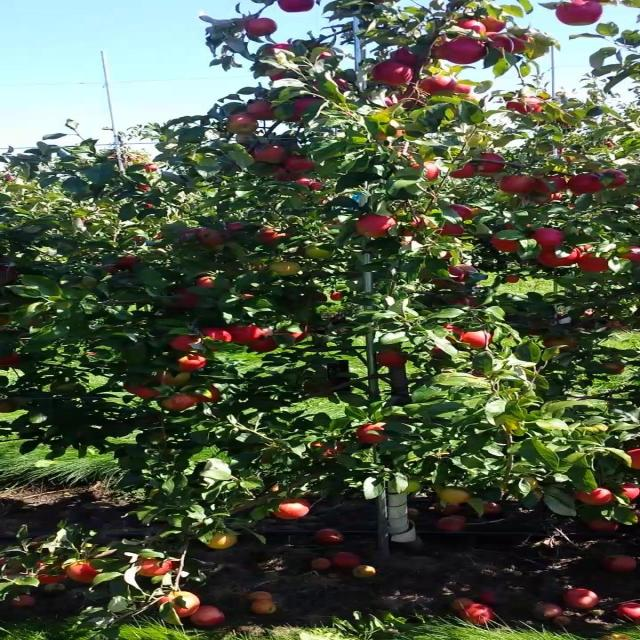apple: (440, 36, 487, 64), (556, 0, 602, 25), (158, 591, 200, 618), (371, 61, 413, 86), (356, 214, 396, 237), (538, 248, 580, 268), (64, 561, 100, 584), (484, 32, 513, 59), (138, 558, 176, 578), (227, 325, 267, 344), (356, 422, 389, 444), (491, 230, 524, 252), (273, 499, 309, 519), (569, 174, 604, 194), (398, 215, 431, 236), (420, 75, 456, 94), (227, 112, 258, 134), (507, 96, 544, 114), (500, 176, 536, 194), (253, 145, 289, 163), (533, 175, 567, 194), (273, 326, 307, 345), (38, 562, 67, 584), (270, 325, 307, 342), (576, 488, 613, 505), (531, 228, 562, 248), (578, 252, 609, 272), (373, 120, 404, 140), (162, 394, 198, 411), (284, 155, 316, 174), (438, 486, 471, 504), (460, 330, 491, 349), (293, 96, 322, 116), (171, 289, 200, 309), (198, 228, 227, 248), (246, 18, 278, 36), (391, 48, 422, 66), (376, 349, 407, 367), (302, 242, 333, 260), (598, 169, 627, 188), (304, 378, 333, 397), (542, 336, 578, 351), (311, 441, 344, 457), (207, 532, 238, 549), (156, 371, 191, 386), (178, 354, 207, 372), (478, 152, 504, 172), (124, 384, 160, 398), (431, 34, 451, 59), (258, 229, 289, 245), (169, 335, 200, 351), (456, 19, 487, 35), (449, 162, 478, 179), (449, 264, 478, 281), (586, 518, 620, 532), (269, 261, 300, 276), (249, 336, 278, 352), (200, 328, 233, 342), (247, 100, 271, 119), (502, 221, 536, 234), (0, 264, 20, 286), (528, 191, 559, 205), (278, 0, 314, 12), (480, 16, 507, 32), (198, 385, 222, 402), (398, 96, 427, 110), (273, 166, 300, 181), (602, 318, 629, 332), (262, 42, 291, 55), (511, 35, 533, 52), (132, 232, 162, 244), (620, 482, 640, 500), (116, 255, 140, 270), (422, 161, 440, 181), (449, 205, 473, 219), (296, 178, 324, 190), (600, 360, 624, 374), (620, 246, 640, 262), (179, 227, 201, 241), (0, 352, 22, 366), (278, 111, 302, 123), (438, 224, 462, 236), (462, 295, 484, 308), (331, 78, 351, 92), (402, 479, 420, 494), (543, 190, 565, 202), (442, 324, 464, 336), (627, 448, 639, 469), (431, 279, 456, 289), (267, 69, 287, 81), (96, 264, 120, 274), (196, 275, 213, 289), (382, 94, 398, 108), (444, 296, 466, 306), (467, 206, 485, 218), (428, 345, 447, 356), (451, 84, 471, 94), (224, 221, 244, 231), (436, 249, 452, 261), (502, 274, 520, 284), (329, 290, 344, 301), (258, 453, 274, 463), (318, 49, 333, 59), (580, 245, 591, 249), (313, 81, 320, 87), (411, 164, 420, 168)
